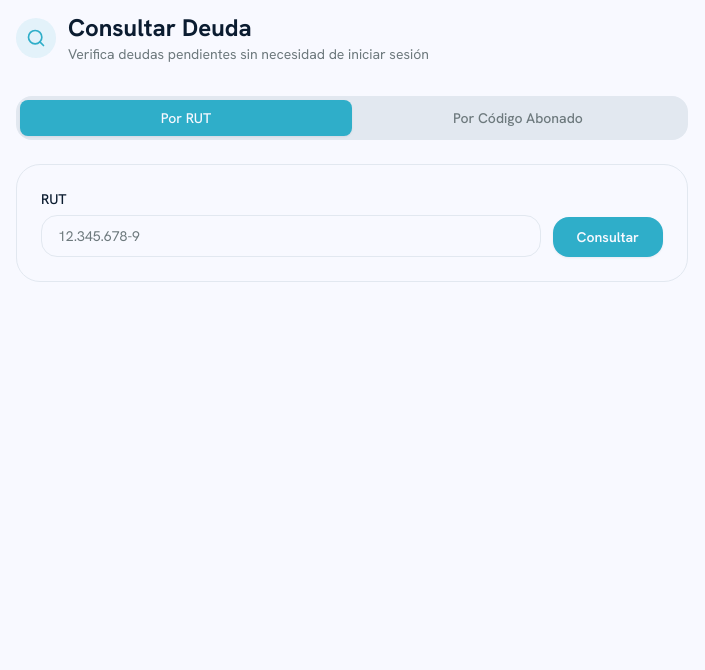
Test: DeudaLookupForm (CU-39/CU-40) › consulta por RUT y muestra resultado (CU-39)
In the field with placeholder "12.345.678-9": x=291, y=236 [41,215,540,257], type "12345678-5"
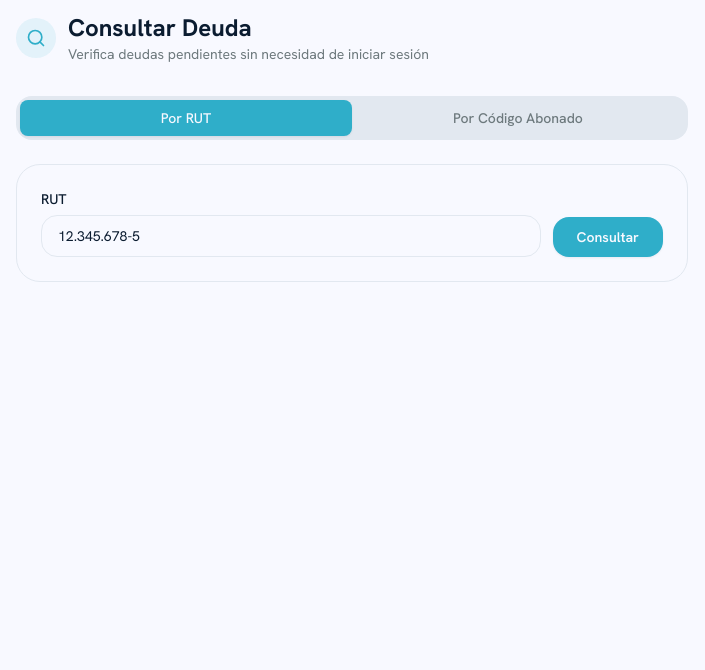
Click the button "Consultar": x=608, y=237 [552,217,663,257]
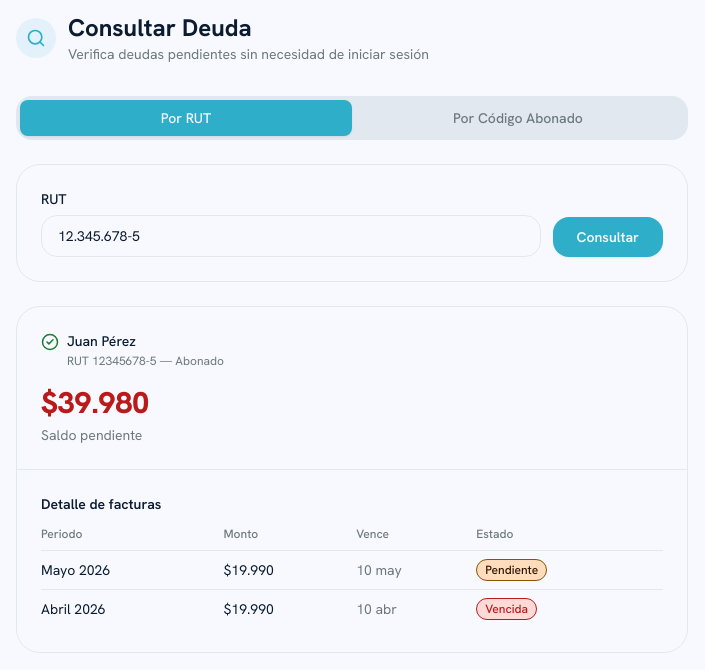
Now the text "Juan Pérez" is shown, box [67,332,136,350]
